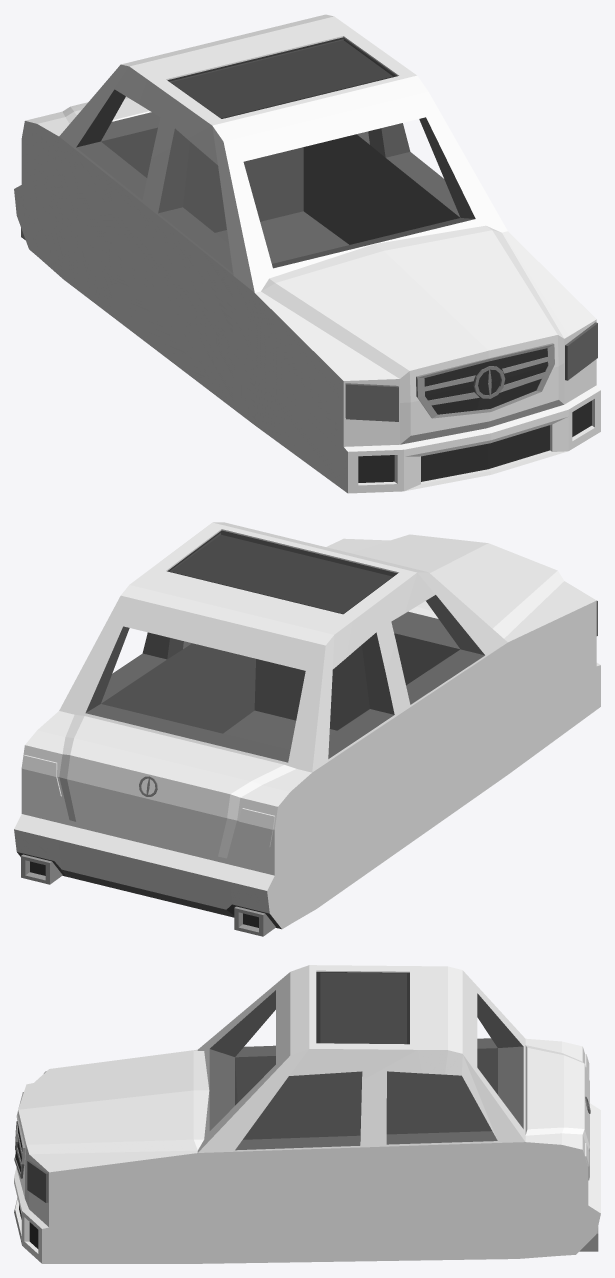
The model's file is E class.fbx.
3 views of the same model, one above another, from view 1: azimuth 30°, elevation 25°; view 2: azimuth 150°, elevation 25°; view 3: azimuth 270°, elevation 25° (orthographic). The views are drawn at different scales.
Visible parts, largest first — view 1: Cube; view 2: Cube; view 3: Cube.
Boxes of the visible parts, x1,y1,x2,y2 form: Cube: (14, 14, 600, 493); Cube: (14, 522, 600, 936); Cube: (14, 965, 600, 1263).
Bounding box in the file's own units: 244 × 226 × 585.
